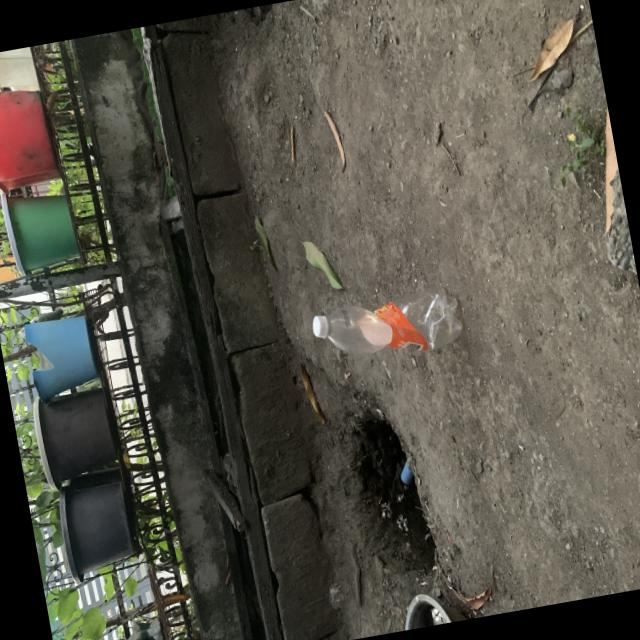Bottle: (311, 289, 461, 354)
